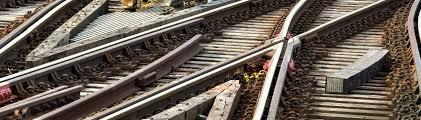track: (0, 0, 391, 120), (253, 0, 420, 120)
